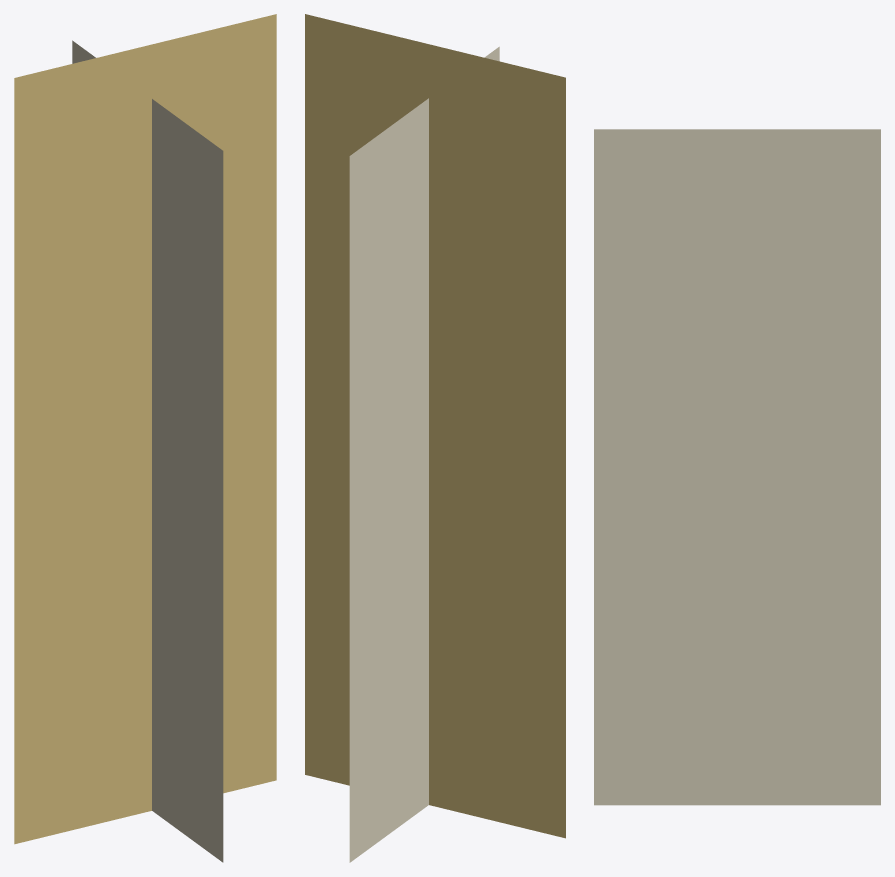
File: itch_assetquest_pond_cattail_3.glb
3 renders of one model, left to right at view 1: azimuth 30°, elevation 25°; view 2: azimuth 150°, elevation 25°; view 3: azimuth 270°, elevation 25°, orthographic. The views are drawn at different scales.
Visible parts, largest first — view 1: Cat_Tail_3; view 2: Cat_Tail_3; view 3: Cat_Tail_3.
Part boxes in pixels (x1,y1,x2,y2): Cat_Tail_3: (14, 14, 276, 862); Cat_Tail_3: (305, 14, 565, 862); Cat_Tail_3: (594, 129, 880, 805).
Bounding box in the file's own units: 0.6633 × 1.85 × 0.6609.
